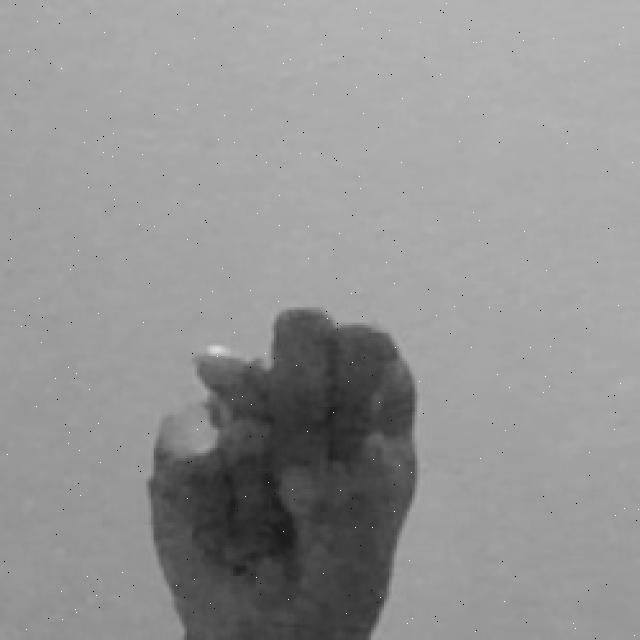N: (138, 294, 422, 640)
